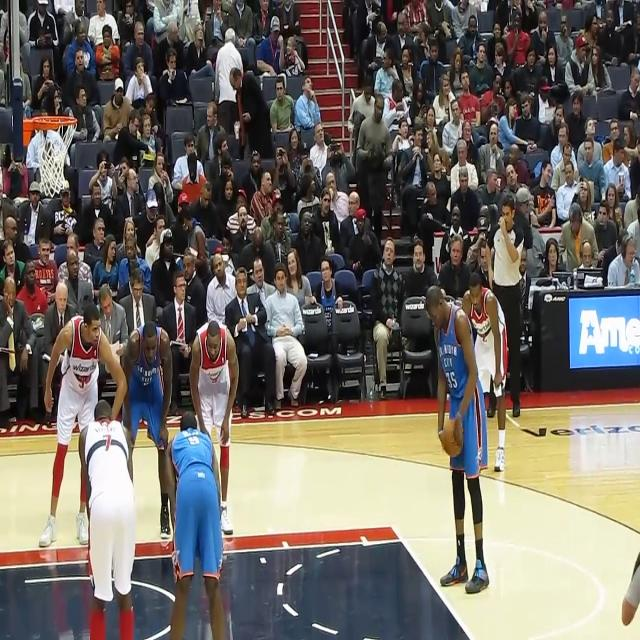ball: (440, 416, 462, 459)
